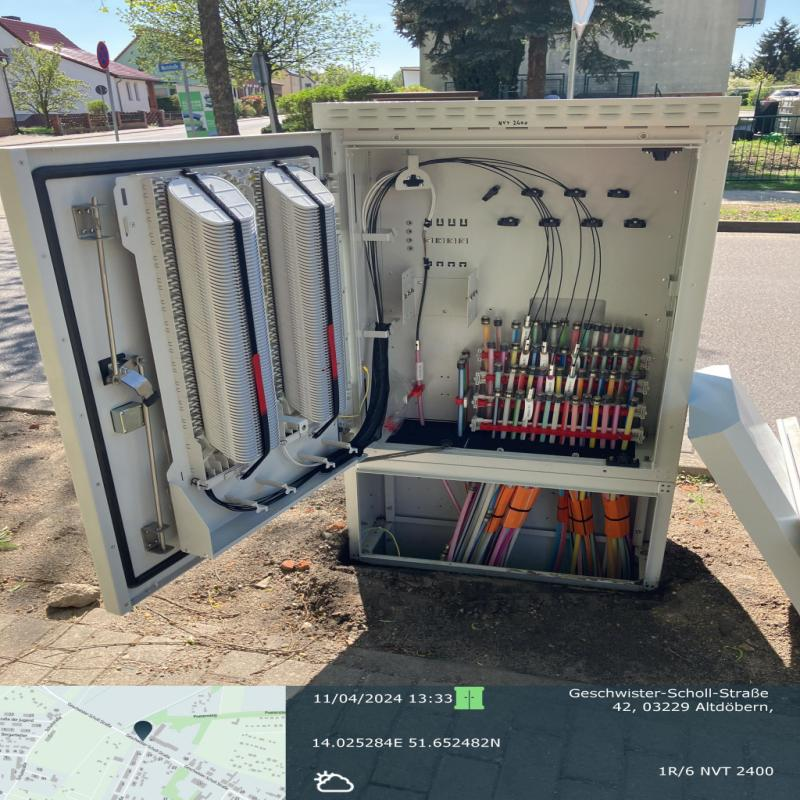NT-Gehause: (0, 98, 741, 615)
Spleiskassetten: (155, 167, 296, 469), (261, 160, 352, 425)
